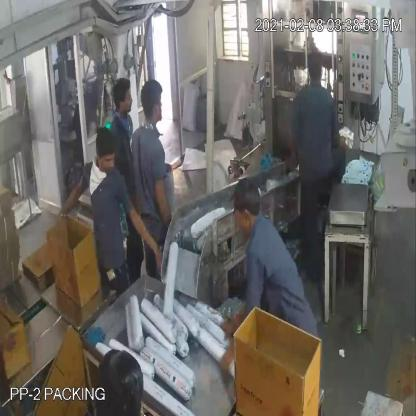no_glove: (121, 193, 177, 272), (50, 174, 94, 233), (217, 317, 249, 376)
